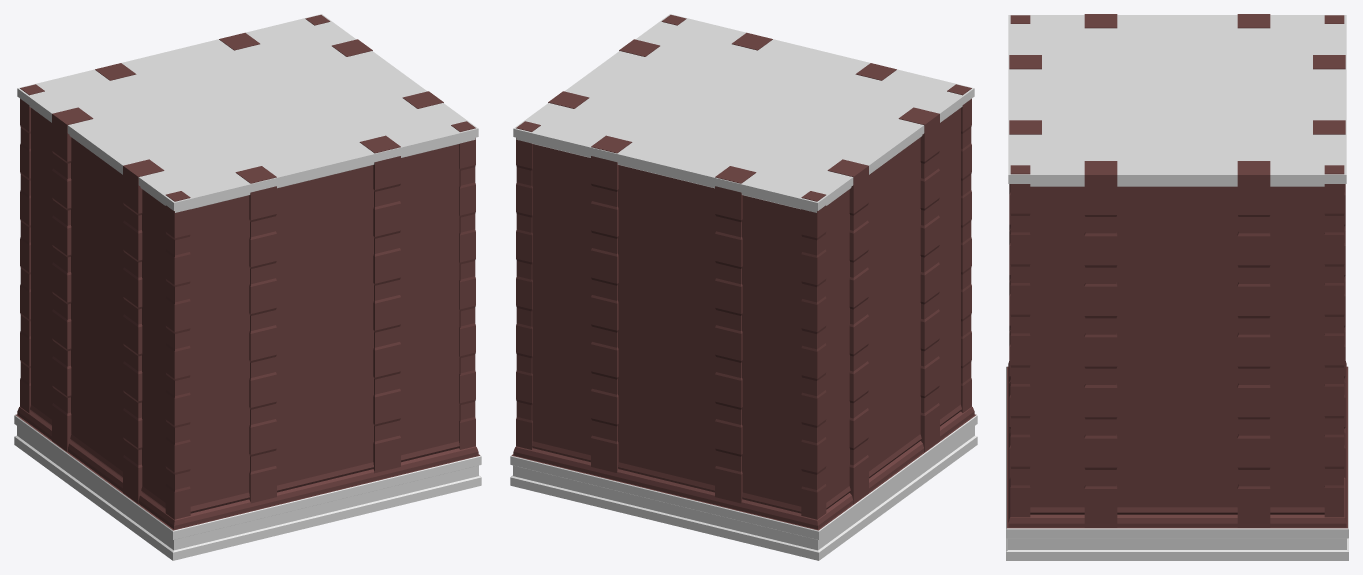
3 views of the same model, side by side, from view 1: azimuth 30°, elevation 25°; view 2: azimuth 150°, elevation 25°; view 3: azimuth 270°, elevation 25° (orthographic). The views are drawn at different scales.
Visible parts, largest first — view 1: floor5.1, floor5.1Decor; view 2: floor5.1, floor5.1Decor; view 3: floor5.1, floor5.1Decor.
Boxes of the visible parts, x1,y1,x2,y2 form: floor5.1: [14, 14, 481, 560]; floor5.1Decor: [20, 15, 475, 519]; floor5.1: [510, 14, 977, 560]; floor5.1Decor: [516, 15, 971, 519]; floor5.1: [1006, 15, 1348, 560]; floor5.1Decor: [1009, 14, 1345, 527].
Bounding box in the file's own units: 203 × 225 × 181.
